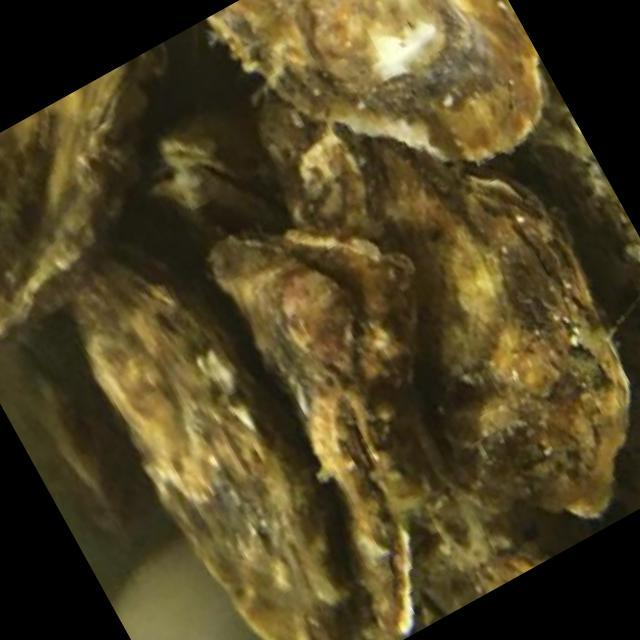Oyster- Indeterminate: (253, 92, 640, 509), (68, 234, 361, 640), (213, 226, 422, 636), (220, 0, 547, 173), (0, 43, 160, 344)
